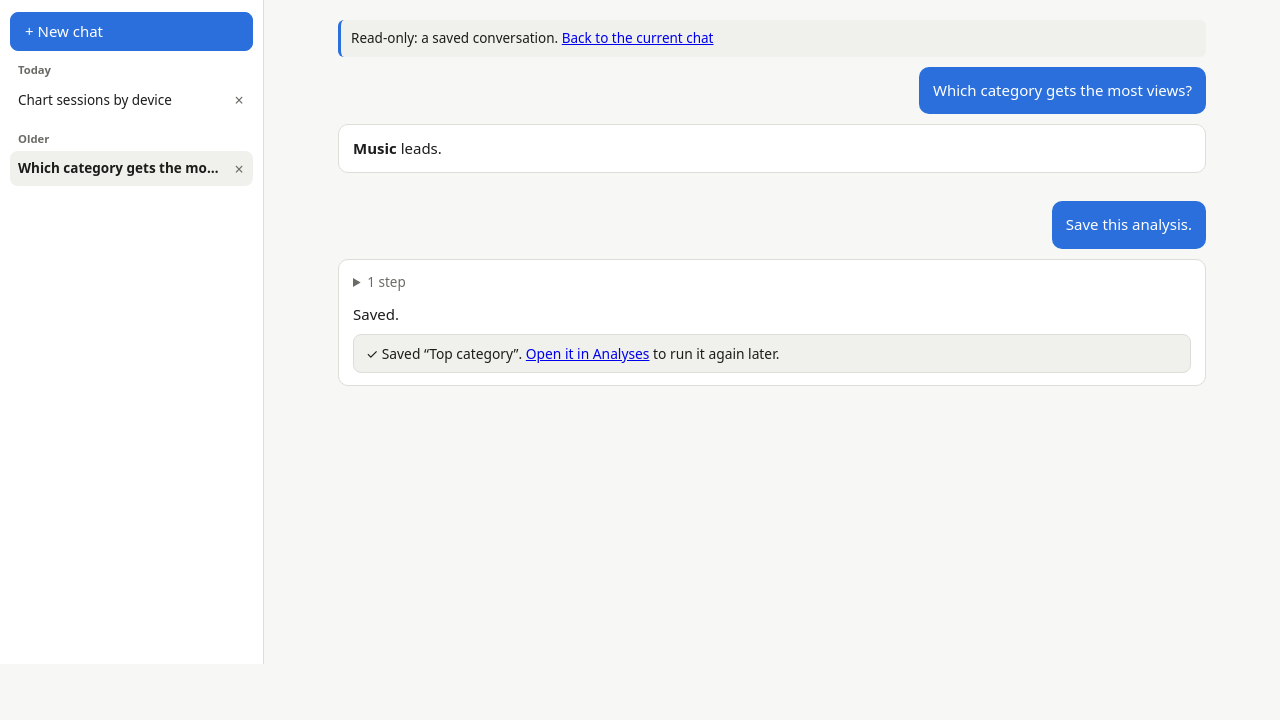
ChatLayout › deletes a conversation after asking, and leaves it if it was open
Expected: the text "Music" is shown, [353,138,397,158]
Click the button named "Delete Which category gets the most views?…" at (239,168), box [227,156,251,180]
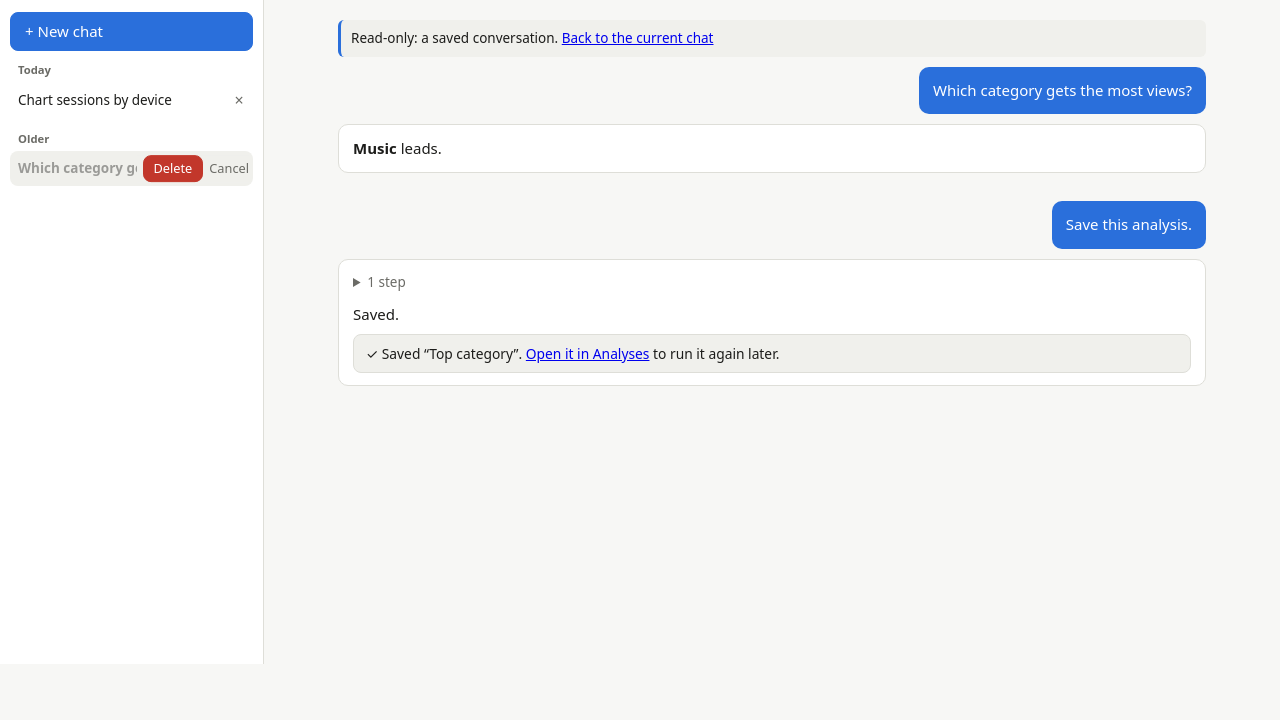
Click the button "Delete" at (173,168), box [142,155,203,182]
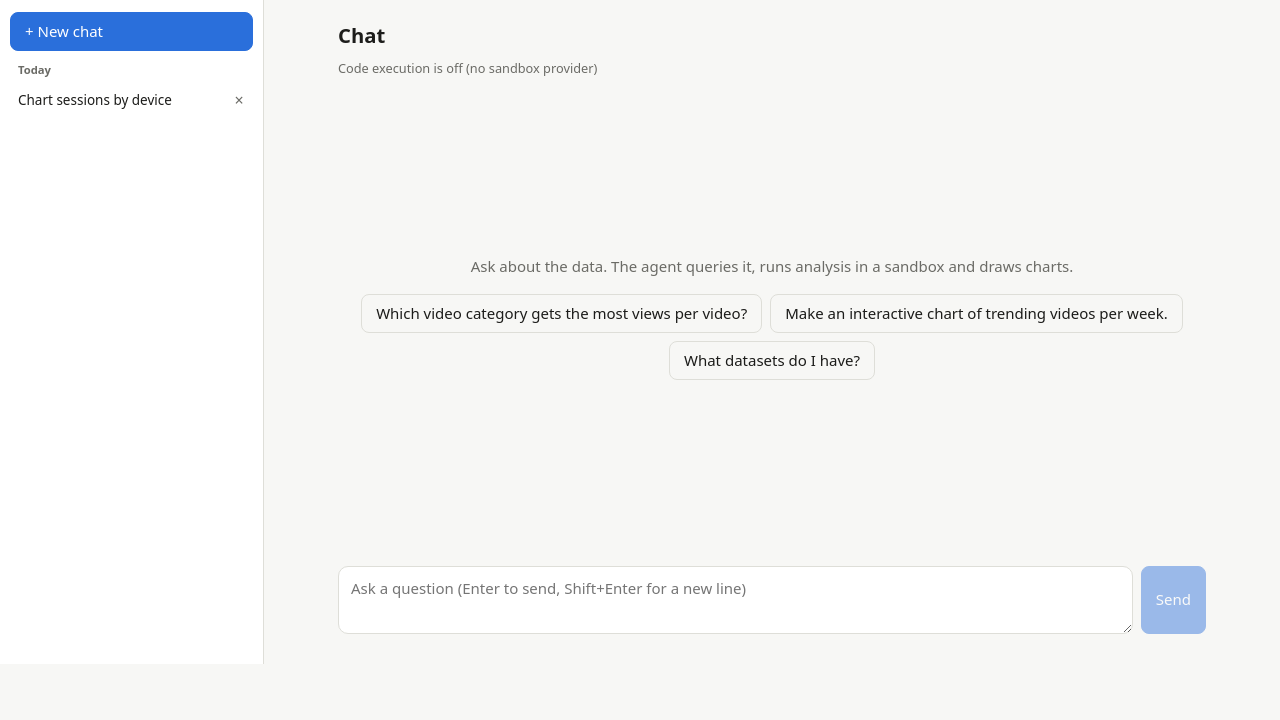
Result: the link "Which category gets the most views?" is gone
Result: the text "Ask about the data" is shown at [471,256,1073,276]
